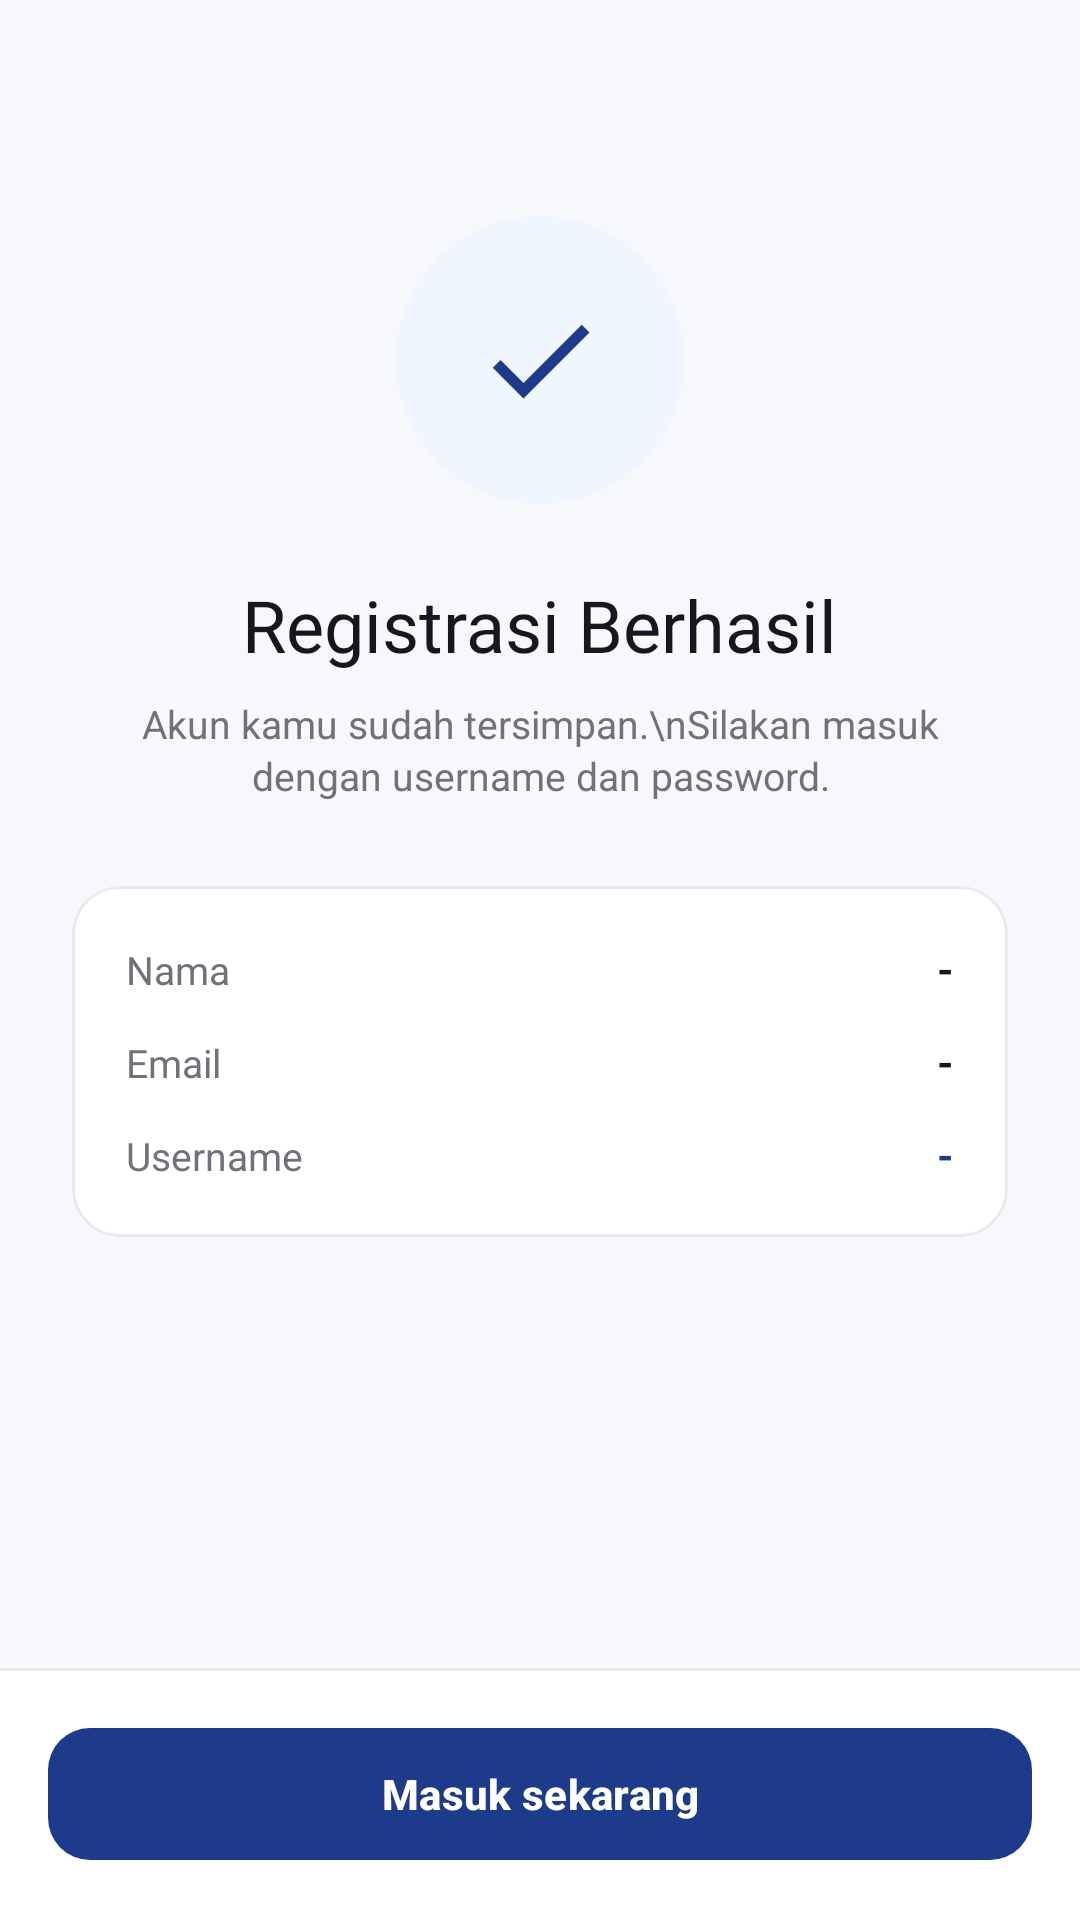

Icons on this 1080*1920 Android screen, each with the point to tap as (x=x, y=y):
check: (x=541, y=362)
